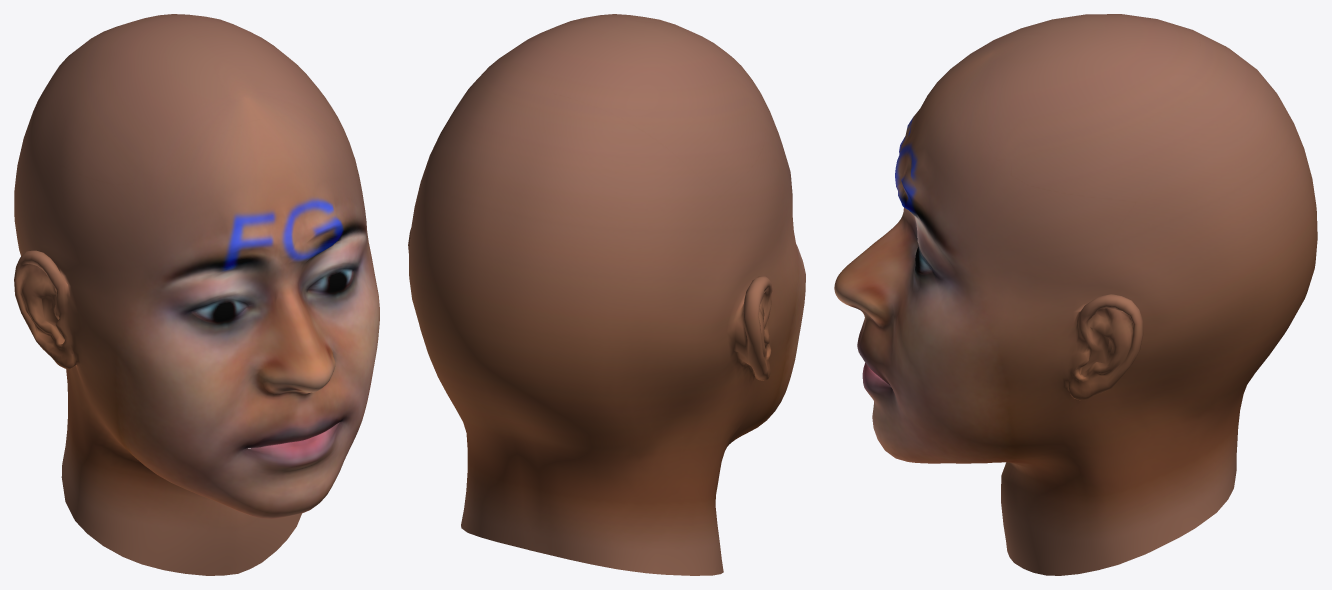
The model's file is avg_anyrace_female_03.obj.
3 renders of one model, left to right at view 1: azimuth 30°, elevation 25°; view 2: azimuth 150°, elevation 25°; view 3: azimuth 270°, elevation 25°, orthographic. The views are drawn at different scales.
Parts seen in each view (by area): view 1: HeadHires; view 2: HeadHires; view 3: HeadHires.
Part boxes in pixels (<box>): HeadHires: <box>14,14,379,575</box>; HeadHires: <box>408,14,805,575</box>; HeadHires: <box>834,14,1317,575</box>.
Bounding box in the file's own units: 190 × 283 × 237.
1 material, 1 textured.
